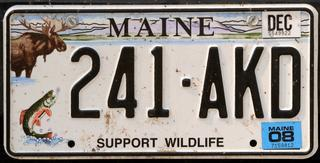placa de veiculo: (9, 5, 317, 158)
